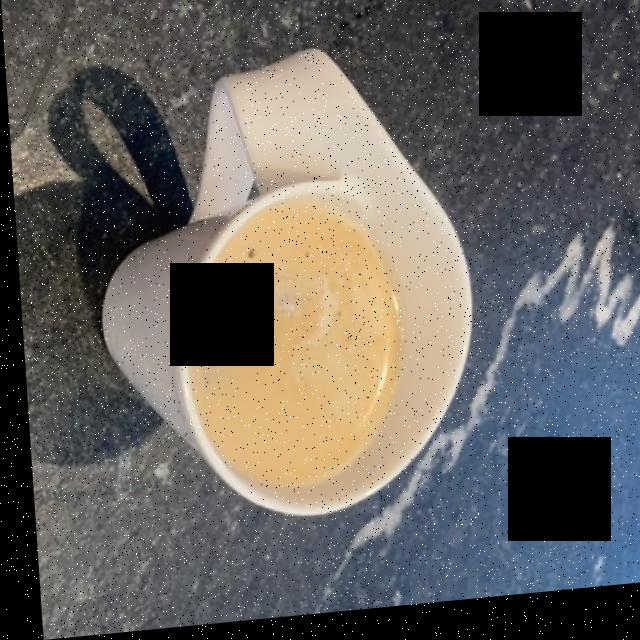coffee-with-caffeine: (187, 215, 394, 489)
